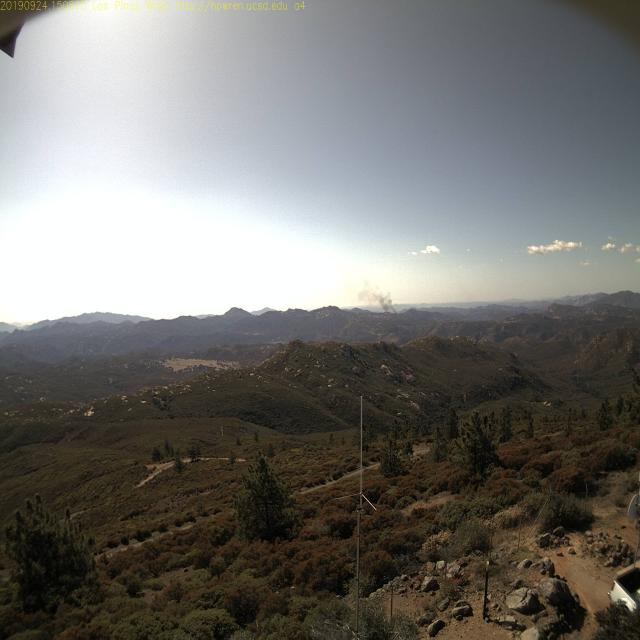smoke: (358, 289, 400, 316)
